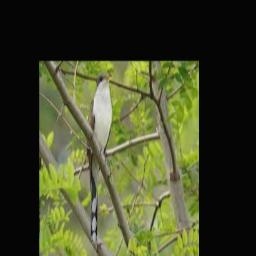Cuckoo: (87, 73, 114, 244)
